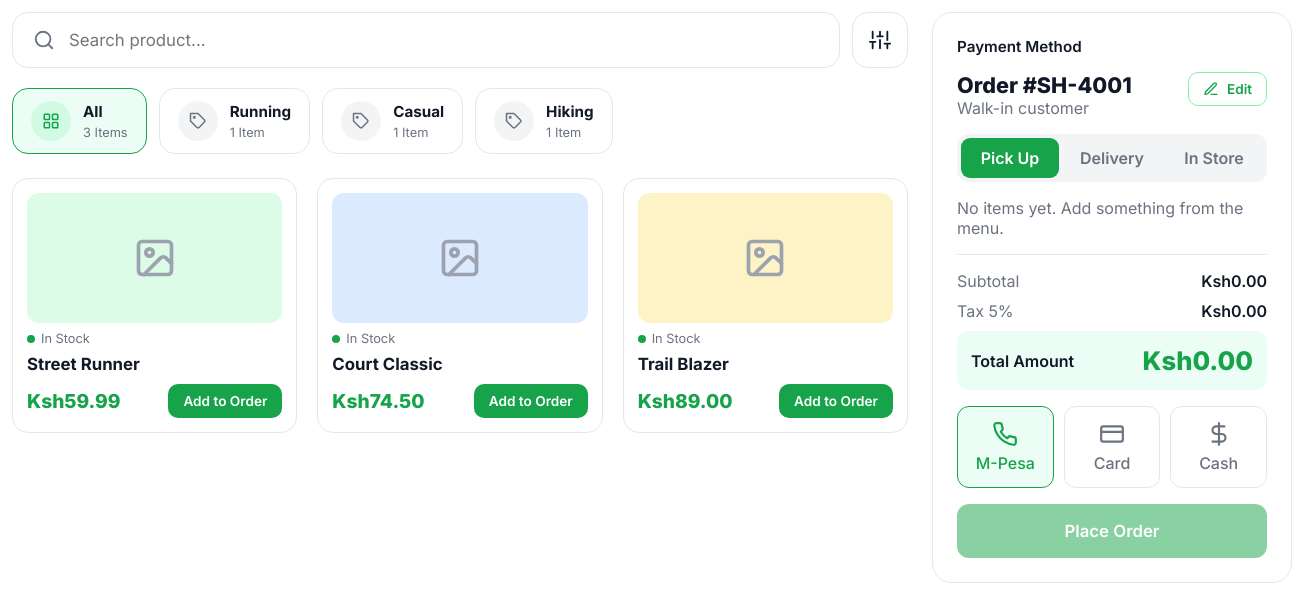
Test: category chip filters the list
This screenshot has width=1292, height=600.
Check: the link "Street Runner" is shown, box [27,354,140,374]
Click the button "Hiking 1 Item" at (544,121), box [475,88,613,154]
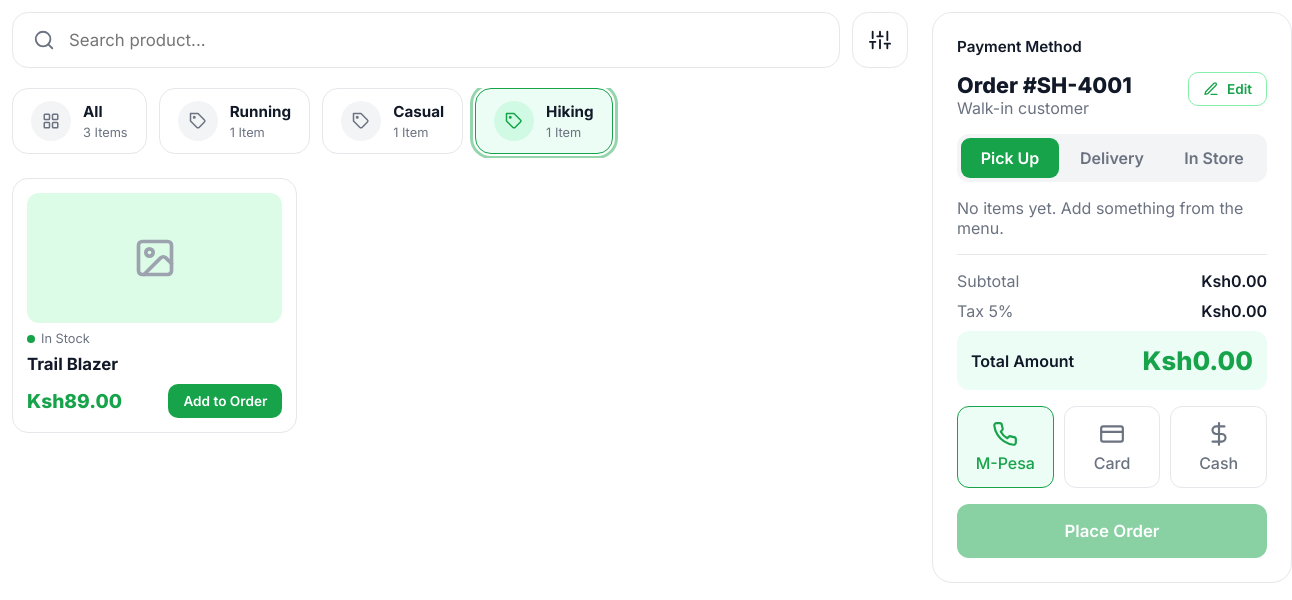
Check: the link "Trail Blazer" is shown, box [27,354,118,374]
Check: the link "Court Classic" is gone
